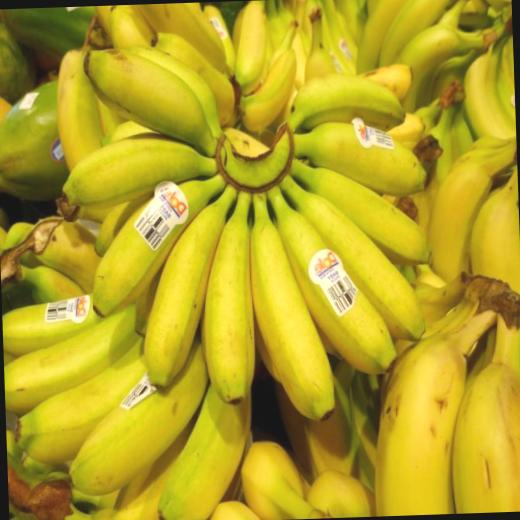Banana: (0, 0, 520, 520), (138, 186, 240, 392)
